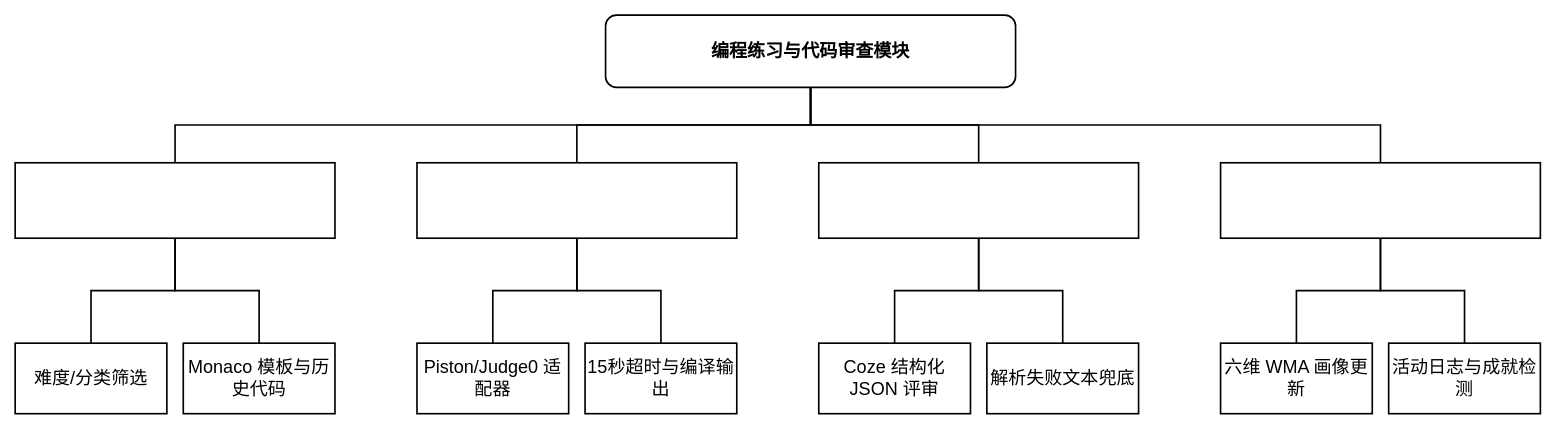
This 1555x428 diagram has some shape labels left out. Here are the shapes that lost their labels. From the top down, the box of each, then its label:
(14, 162, 335, 239): 题目浏览与代码编辑
(416, 162, 737, 239): 沙盒运行执行链
(818, 162, 1139, 239): 提交评审执行链
(1219, 162, 1541, 239): 画像更新与结果沉淀
